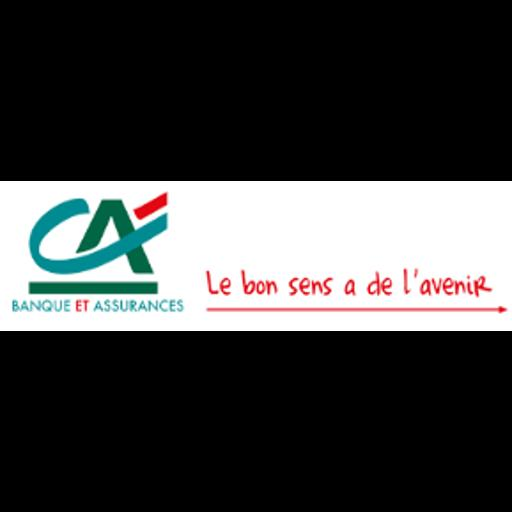Credit Agricole S-A: (0, 181, 512, 331)
